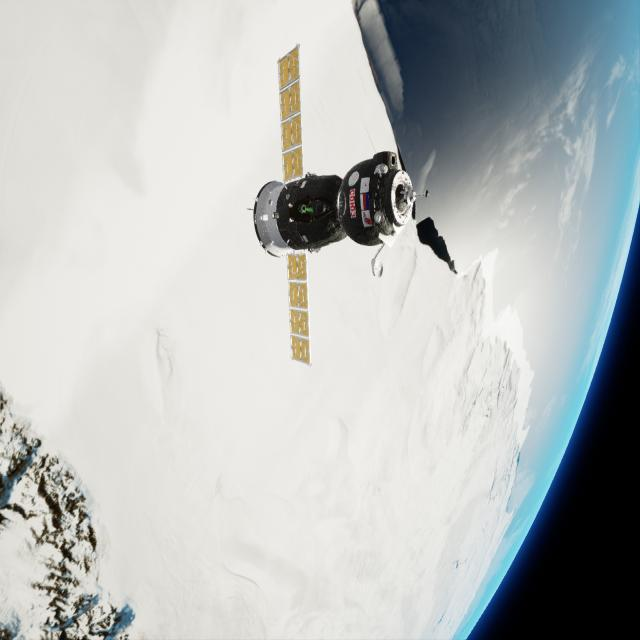Satellites revolving around earth: (227, 31, 442, 375)
